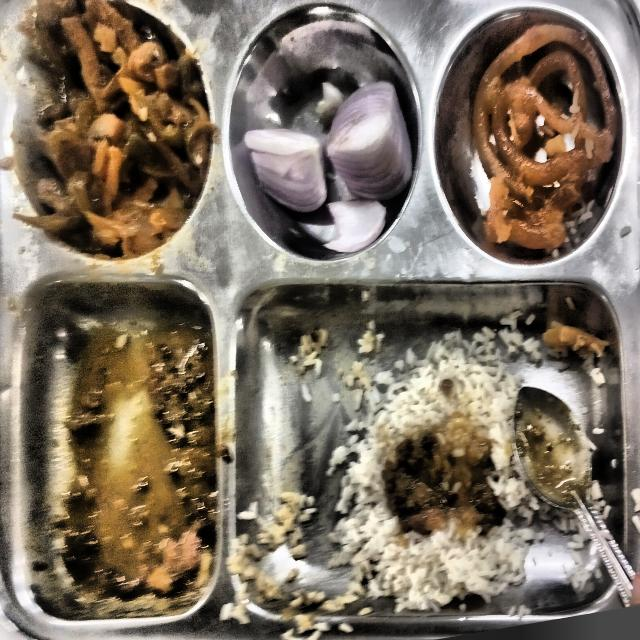Chutney: (475, 51, 596, 248)
Rajma: (336, 336, 544, 609)
Salad-Chukundar: (243, 82, 412, 253)
gajar-aloo: (6, 0, 216, 260)
